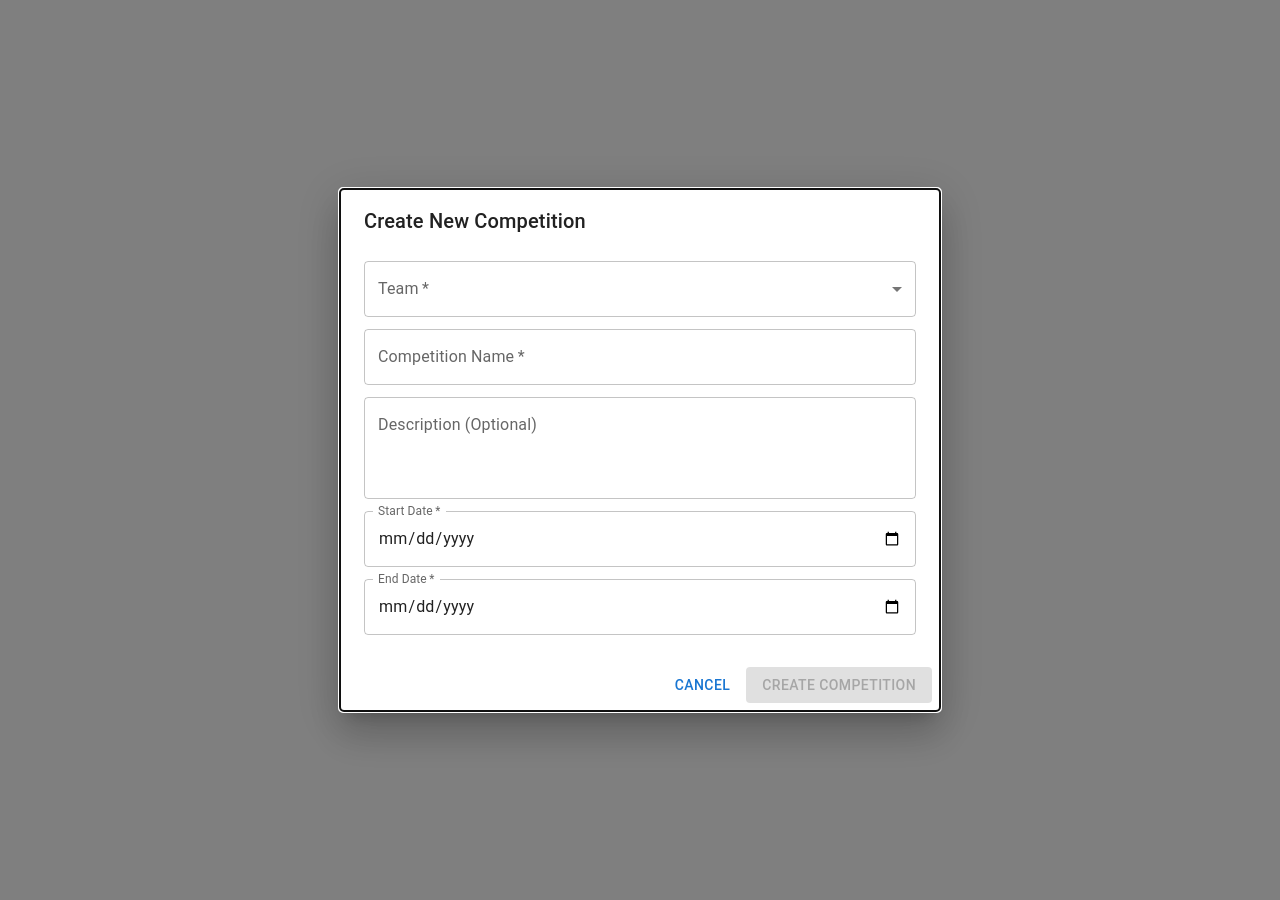
it: CreateCompetitionModal › displays team in dropdown
Expected: the heading "Create New Competition" is shown, [364, 209, 586, 233]
Open team dropdown
Click the dropdown named "team" at (640, 289), box [364, 261, 916, 317]
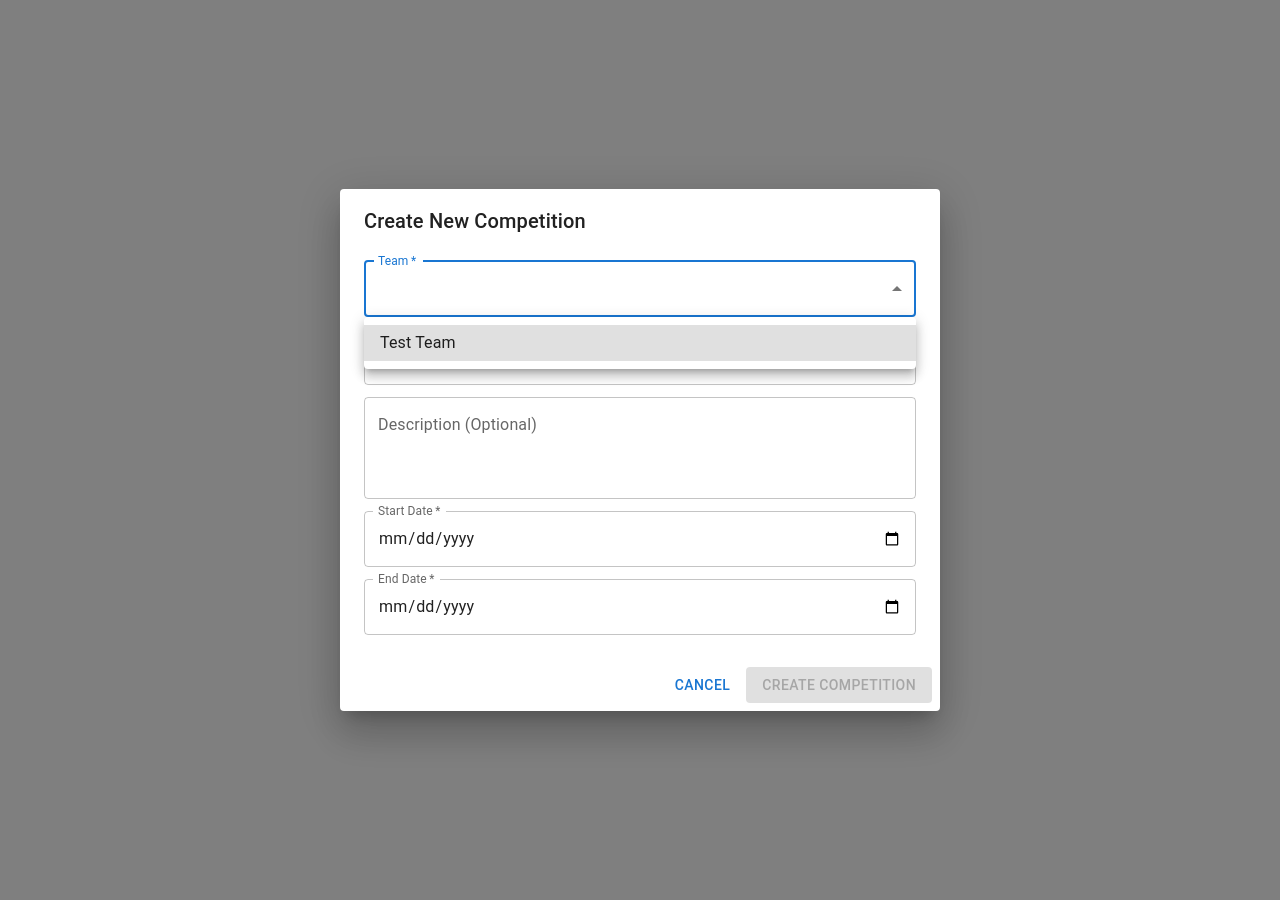
Now the option "Test Team" is shown, box [364, 325, 916, 361]
